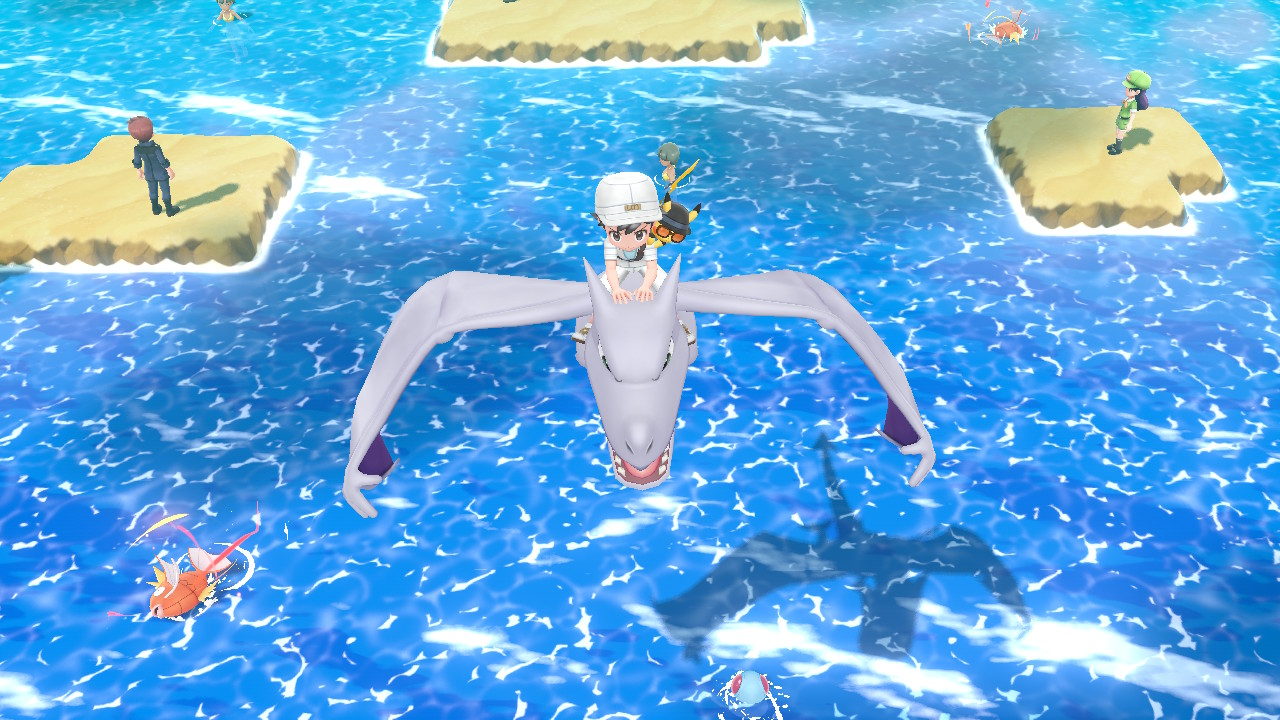Red: (136, 537, 241, 633), (978, 11, 1033, 47)
